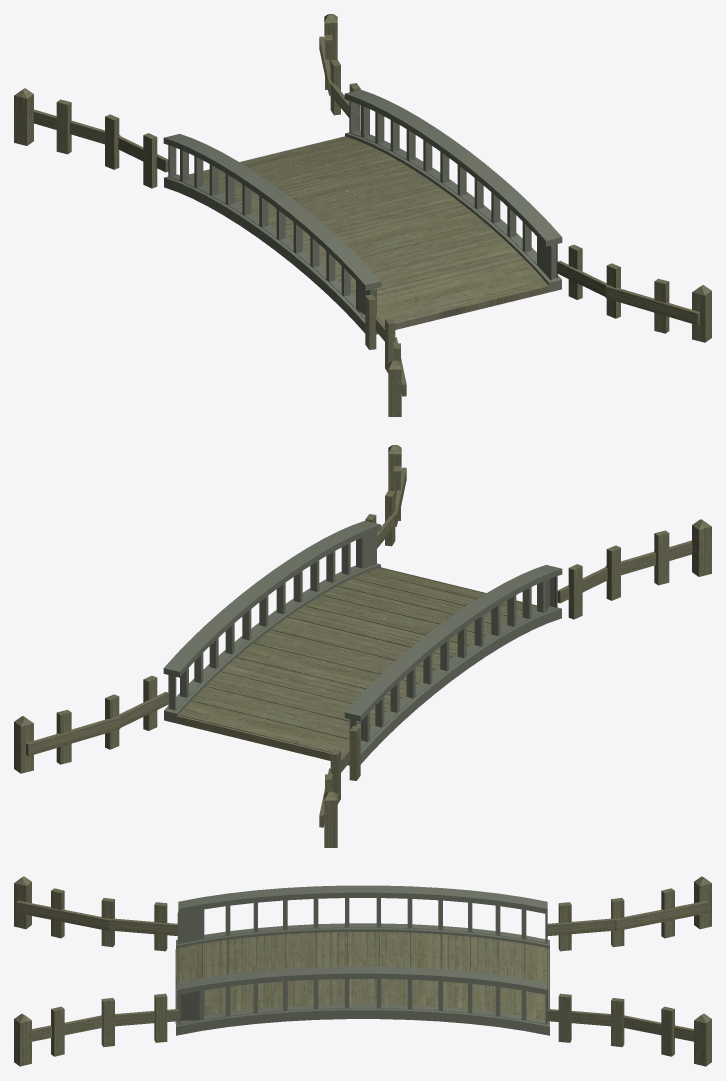
Rendered from bridge.gltf.
The picture shows the model from 3 angles, top to bottom: view 1: azimuth 30°, elevation 25°; view 2: azimuth 150°, elevation 25°; view 3: azimuth 270°, elevation 25°; orthographic projection. The views are drawn at different scales.
Visible parts, largest first — view 1: Cube.005; view 2: Cube.005; view 3: Cube.005.
Part boxes in pixels (box(x1,y1,x2,y2)): Cube.005: box(14, 14, 711, 416); Cube.005: box(14, 445, 711, 847); Cube.005: box(14, 876, 711, 1066).
Bounding box in the file's own units: 9.7 × 2.05 × 19.79.
2 materials, 1 textured.
